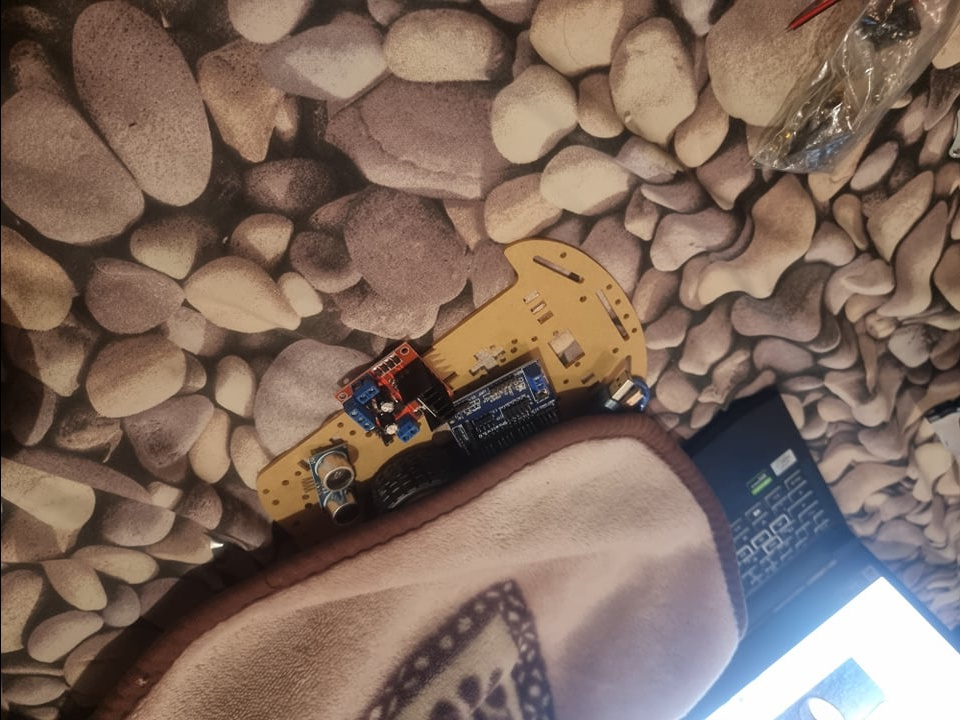5V EXPANSION: (448, 357, 560, 462)
MOTOR: (329, 338, 452, 450)
SENSOR: (305, 440, 355, 533)
